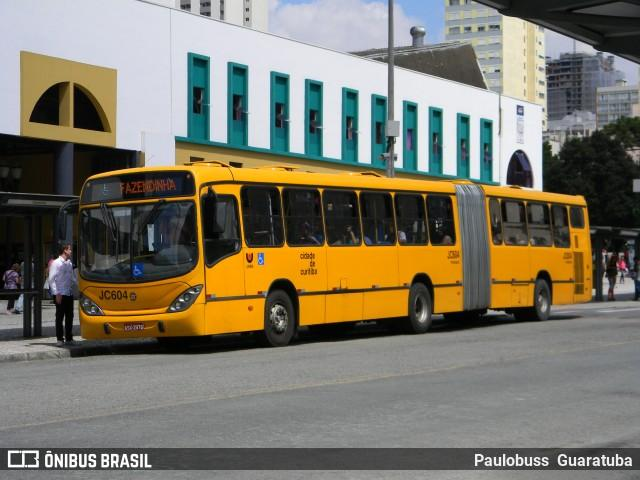FAZENDINHA: (117, 175, 180, 198)
